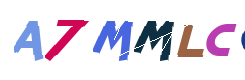7: (25, 0, 105, 80)
A: (14, 0, 94, 80)
C: (146, 0, 226, 80)
L: (121, 0, 201, 80)
M: (76, 0, 156, 80), (81, 0, 161, 80)
Q: (164, 0, 244, 80)
